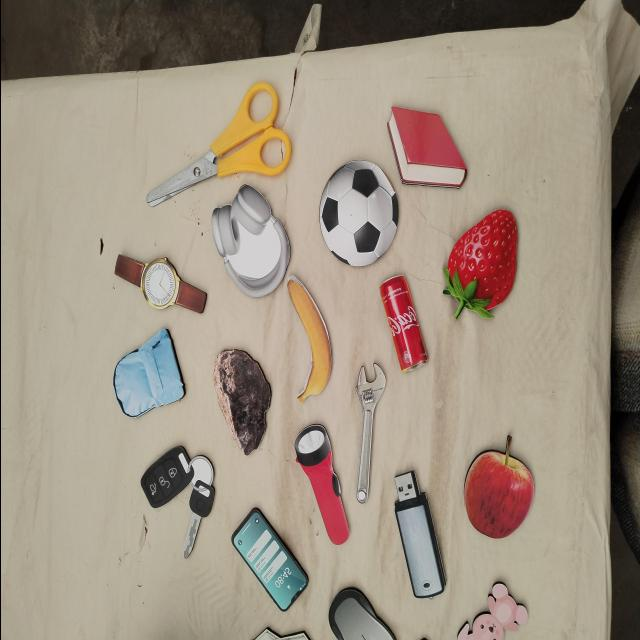Other Objects: (144, 81, 291, 207), (302, 140, 413, 288), (135, 424, 235, 559), (209, 183, 290, 299), (228, 504, 311, 616), (104, 326, 189, 432), (289, 419, 354, 554), (387, 466, 448, 604), (462, 435, 533, 539), (339, 360, 387, 505), (211, 348, 271, 456), (285, 275, 331, 403), (112, 253, 206, 314), (377, 274, 428, 373), (455, 581, 527, 639), (328, 588, 394, 640)
